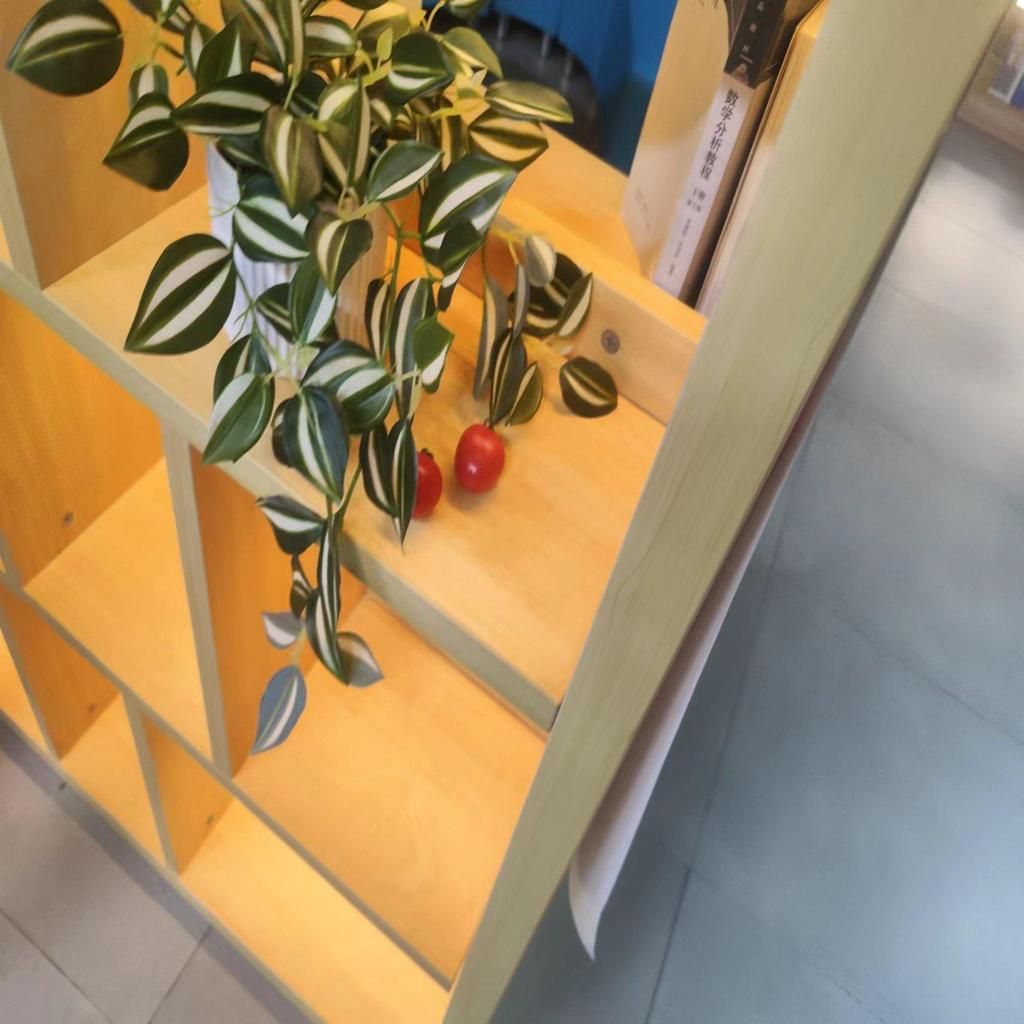tomato: (455, 420, 503, 497), (397, 447, 444, 525)
